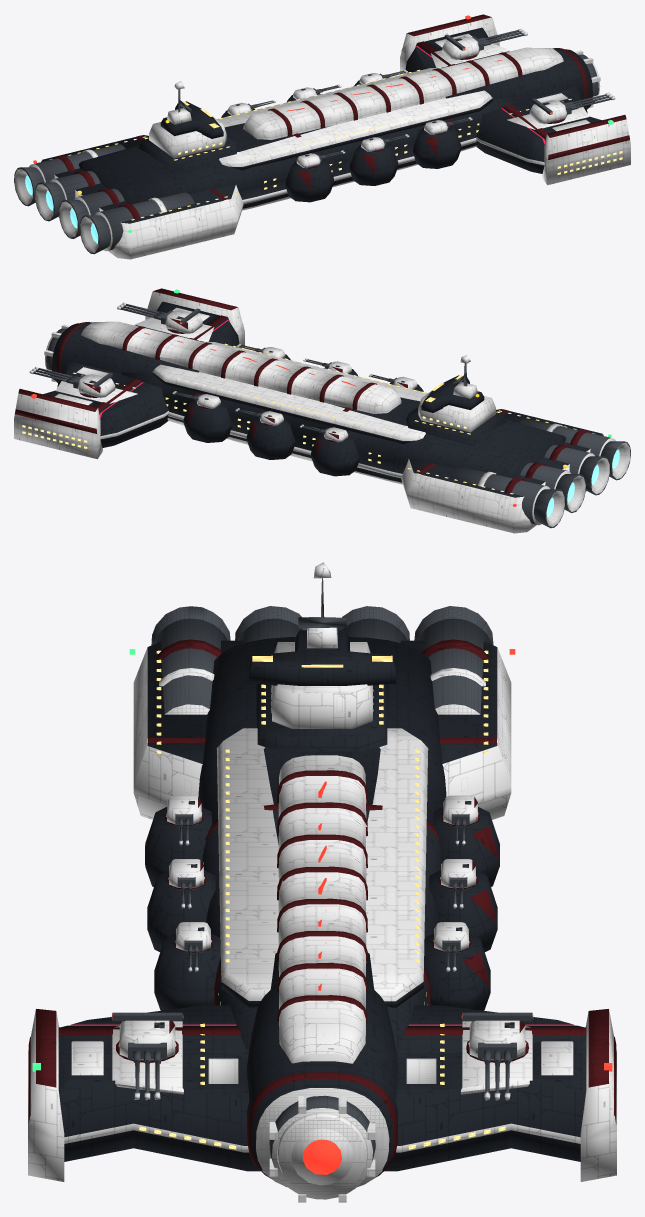
The model's file is colossus_production_v1_lod2.glb.
3 views of the same model, one above another, from view 1: azimuth 30°, elevation 25°; view 2: azimuth 150°, elevation 25°; view 3: azimuth 270°, elevation 25° (orthographic). The views are drawn at different scales.
Visible parts, largest first — view 1: LOD0_MOTION_HULL_CORE_Armor, LOD0_MOTION_HULL_CORE_Hull, LOD0_MOTION_HULL_CORE_Mechanical, LOD0_MOTION_HULL_CORE_Livery, LOD0_MOTION_HULL_CORE_MechanicalDark, LOD0_MOTION_HULL_CORE_Lights_Warm, LOD0_MOTION_HULL_CORE_HOOK_ARMOR_PORT_Armor, LOD0_MOTION_HULL_CORE_HOOK_DRIVE_CORE; view 2: LOD0_MOTION_HULL_CORE_Armor, LOD0_MOTION_HULL_CORE_Hull, LOD0_MOTION_HULL_CORE_Mechanical, LOD0_MOTION_HULL_CORE_Livery, LOD0_MOTION_HULL_CORE_MechanicalDark, LOD0_MOTION_HULL_CORE_Lights_Warm, LOD0_MOTION_HULL_CORE_HOOK_ARMOR_PORT_Armor, LOD0_MOTION_HULL_CORE_HOOK_DRIVE_CORE; view 3: LOD0_MOTION_HULL_CORE_Hull, LOD0_MOTION_HULL_CORE_Armor, LOD0_MOTION_HULL_CORE_Mechanical, LOD0_MOTION_HULL_CORE_Livery, LOD0_MOTION_HULL_CORE_MechanicalDark, LOD0_MOTION_HULL_CORE_Lights_Warm, LOD0_MOTION_HULL_CORE_HOOK_ARMOR_PORT_Armor, LOD0_MOTION_HULL_CORE_HOOK_NAV_PORT.
Part boxes in pixels (<box>): LOD0_MOTION_HULL_CORE_Armor: <box>54,17,630,259</box>; LOD0_MOTION_HULL_CORE_Hull: <box>41,27,601,223</box>; LOD0_MOTION_HULL_CORE_Mechanical: <box>14,30,611,254</box>; LOD0_MOTION_HULL_CORE_Livery: <box>53,14,629,219</box>; LOD0_MOTION_HULL_CORE_MechanicalDark: <box>14,28,615,252</box>; LOD0_MOTION_HULL_CORE_Lights_Warm: <box>49,69,622,220</box>; LOD0_MOTION_HULL_CORE_HOOK_ARMOR_PORT_Armor: <box>430,43,510,67</box>; LOD0_MOTION_HULL_CORE_HOOK_DRIVE_CORE: <box>25,175,98,243</box>; LOD0_MOTION_HULL_CORE_Armor: <box>14,291,590,533</box>; LOD0_MOTION_HULL_CORE_Hull: <box>43,301,603,497</box>; LOD0_MOTION_HULL_CORE_Mechanical: <box>33,304,630,528</box>; LOD0_MOTION_HULL_CORE_Livery: <box>15,288,591,493</box>; LOD0_MOTION_HULL_CORE_MechanicalDark: <box>29,302,630,526</box>; LOD0_MOTION_HULL_CORE_Lights_Warm: <box>22,343,594,494</box>; LOD0_MOTION_HULL_CORE_HOOK_ARMOR_PORT_Armor: <box>56,379,137,403</box>; LOD0_MOTION_HULL_CORE_HOOK_DRIVE_CORE: <box>546,449,619,517</box>; LOD0_MOTION_HULL_CORE_Hull: <box>58,630,586,1171</box>; LOD0_MOTION_HULL_CORE_Armor: <box>28,617,616,1202</box>; LOD0_MOTION_HULL_CORE_Mechanical: <box>112,606,532,1163</box>; LOD0_MOTION_HULL_CORE_Livery: <box>28,639,616,1178</box>; LOD0_MOTION_HULL_CORE_MechanicalDark: <box>118,704,526,1199</box>; LOD0_MOTION_HULL_CORE_Lights_Warm: <box>27,650,617,1149</box>; LOD0_MOTION_HULL_CORE_HOOK_ARMOR_PORT_Armor: <box>460,1021,532,1094</box>; LOD0_MOTION_HULL_CORE_HOOK_NAV_PORT: <box>111,649,612,1174</box>.
Size of what is drawn, in the model's own units: 53.5 by 12.03 by 25.64.
11 materials, 5 textured.
